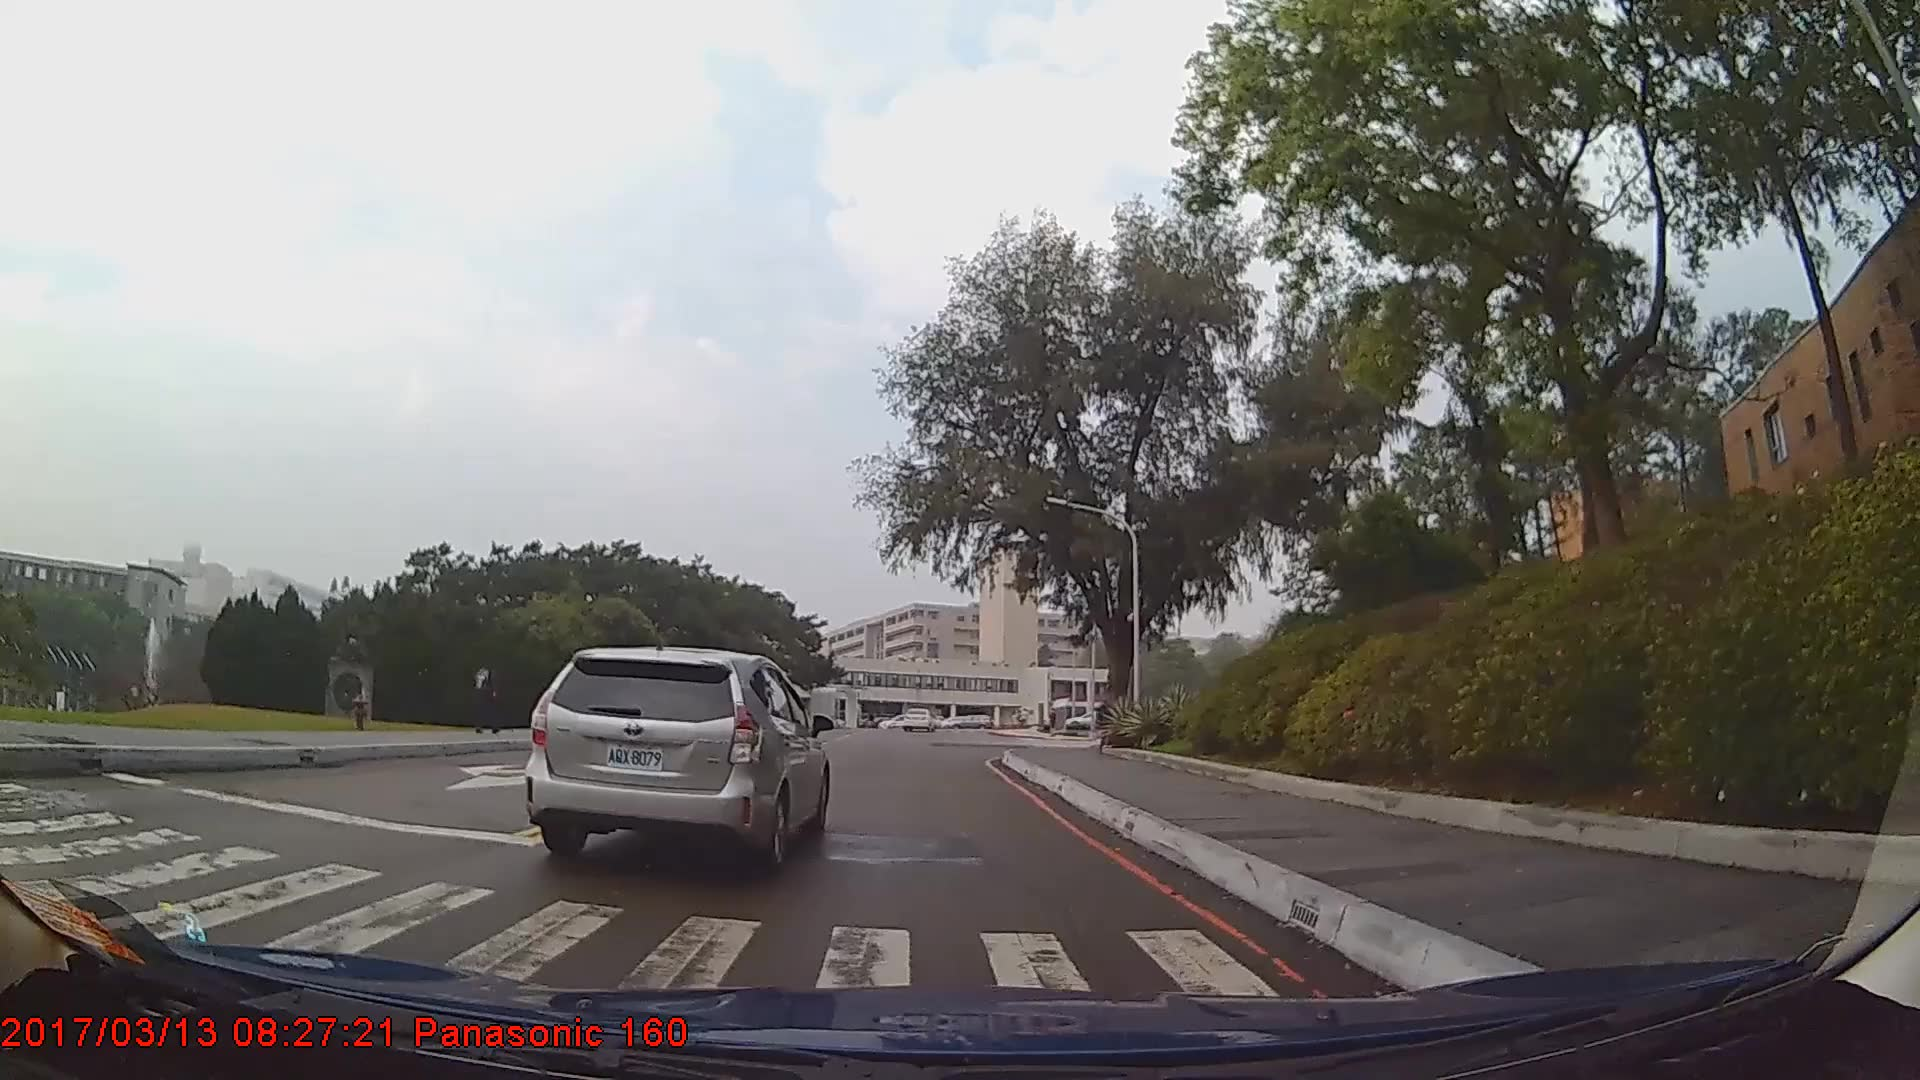pedestrian: (468, 656, 506, 737)
vehicle: (524, 642, 831, 874), (900, 705, 935, 732)
